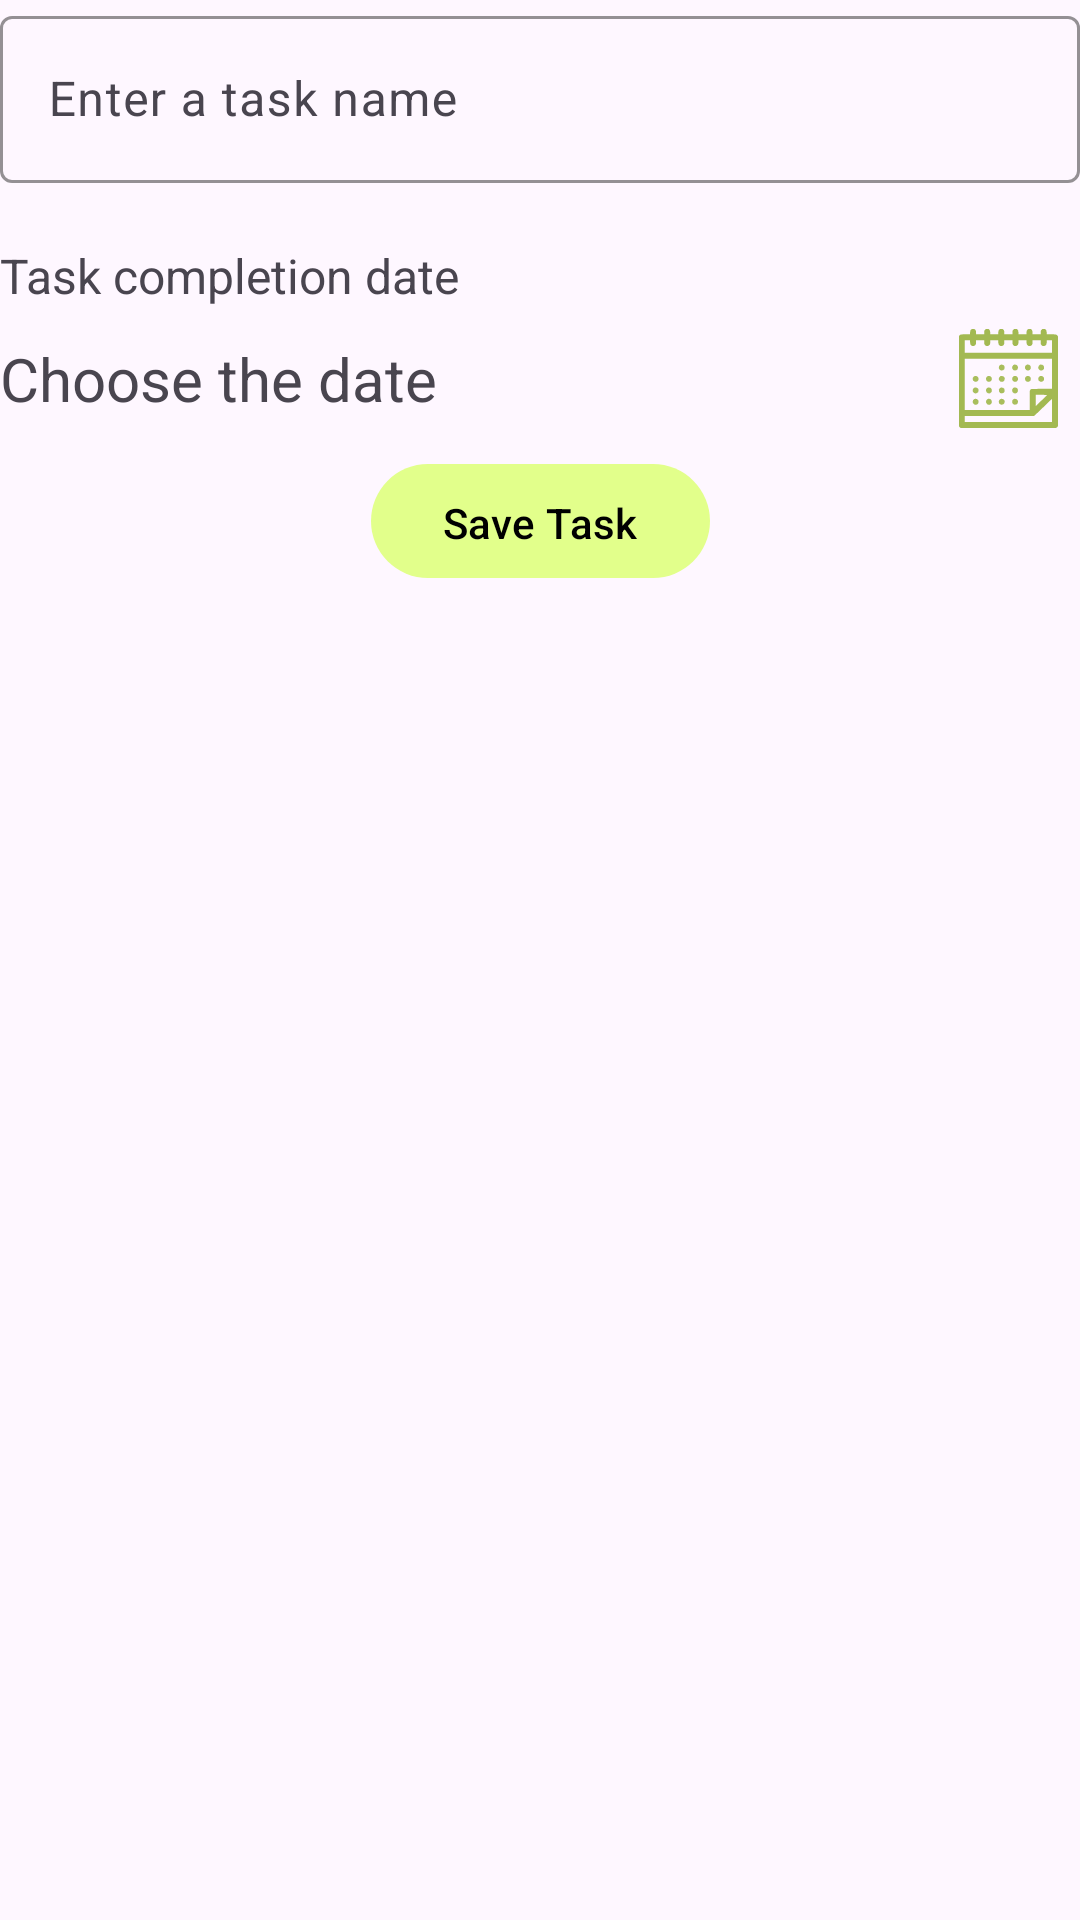

Icon bounding boxes for this 1080 × 1920 phone screenshot, format (x1, y1, x2, y2):
calendar: (959, 329, 1058, 428)
